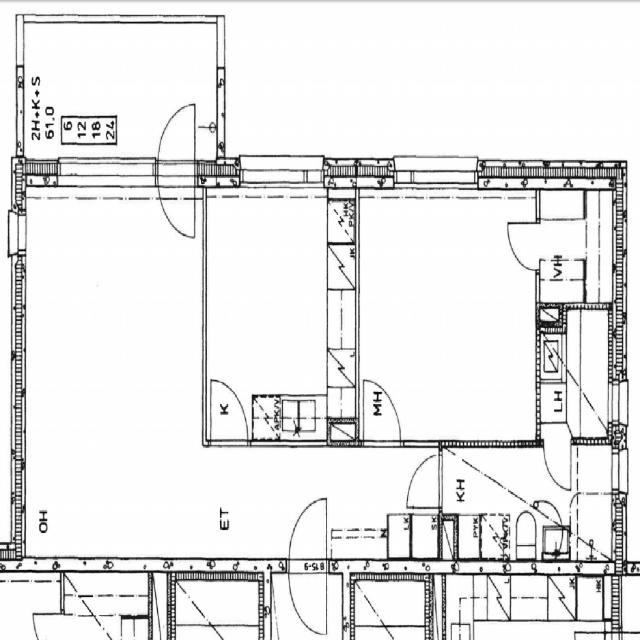door: (157, 96, 195, 187), (157, 158, 195, 248), (289, 558, 326, 632), (289, 499, 326, 571), (210, 380, 248, 446), (364, 381, 400, 446), (407, 454, 442, 508), (507, 222, 540, 269), (543, 440, 571, 491)
